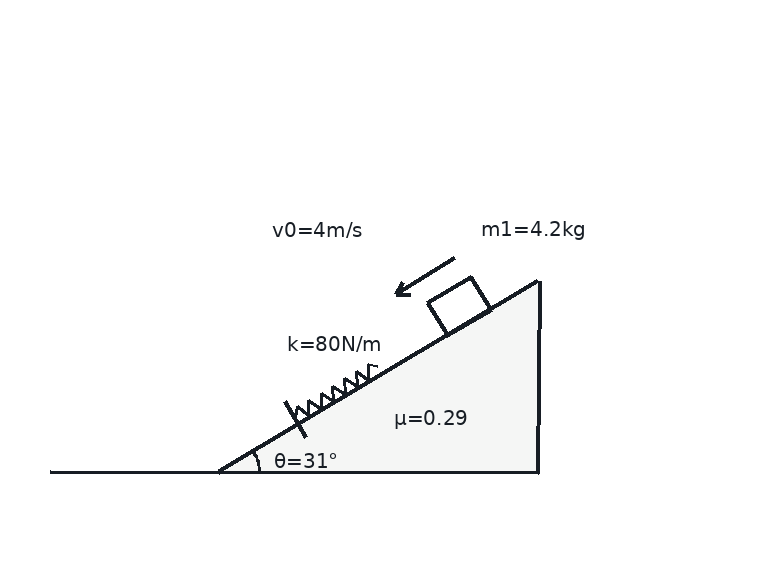block: (426, 275, 493, 337)
ramp: (217, 278, 540, 474)
spring: (292, 362, 379, 418)
